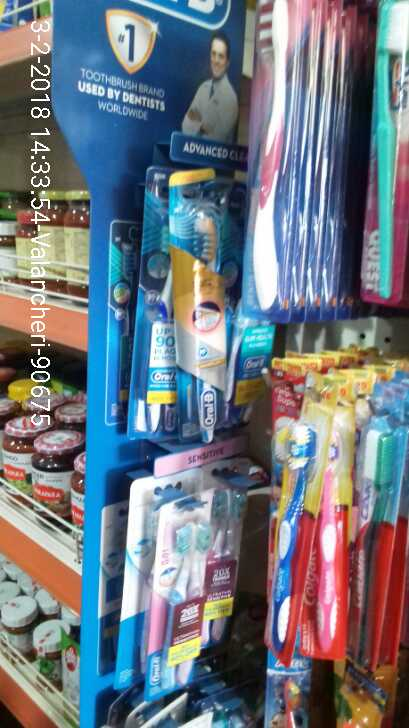oralb: (166, 178, 227, 426), (148, 485, 211, 699), (273, 409, 323, 673)
